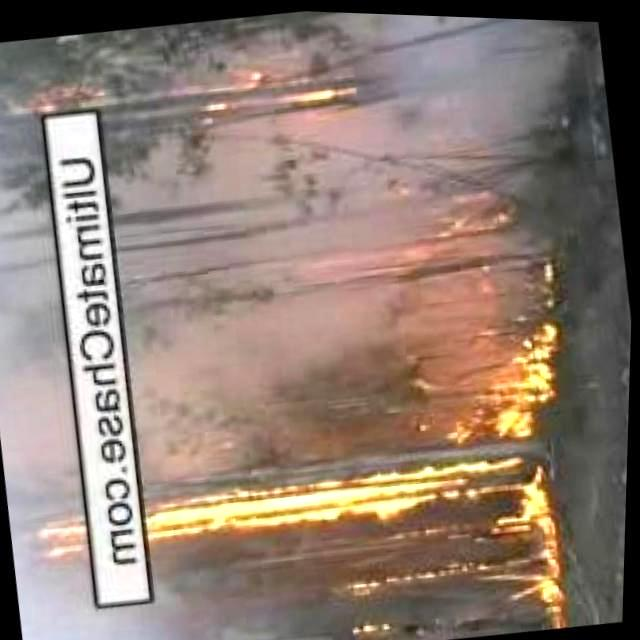fire: (19, 444, 551, 568), (433, 310, 567, 432), (522, 534, 576, 628)
